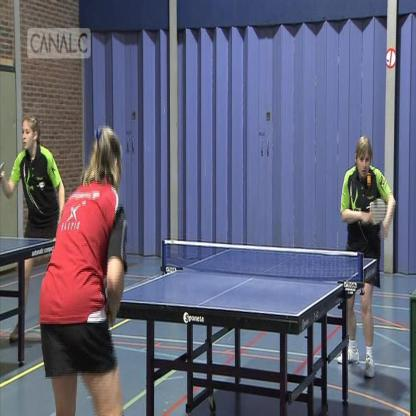face: (358, 153, 371, 177), (24, 123, 35, 149)
